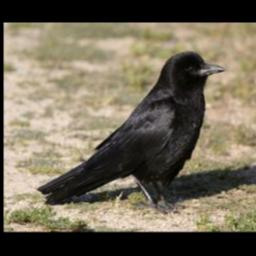Crow: (35, 49, 227, 213)
